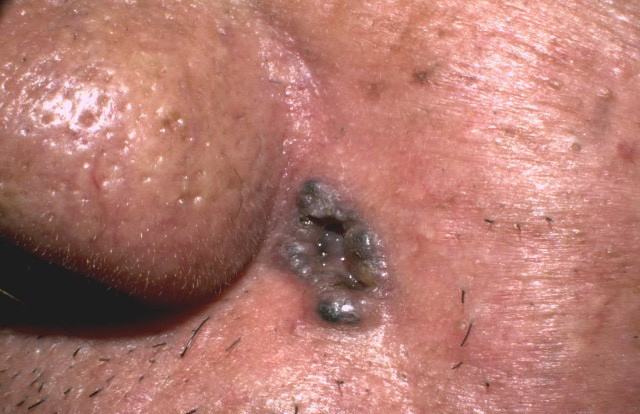Basa Cell Carcinoma: (255, 137, 425, 355)
